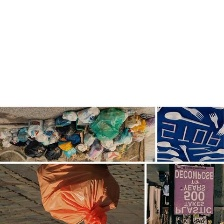plastic_bag: (31, 162, 125, 223)
